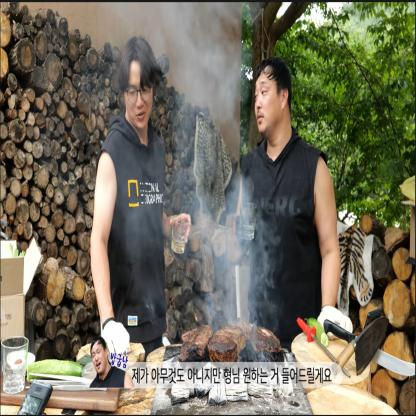streamer: (233, 58, 354, 342), (89, 35, 192, 357)
